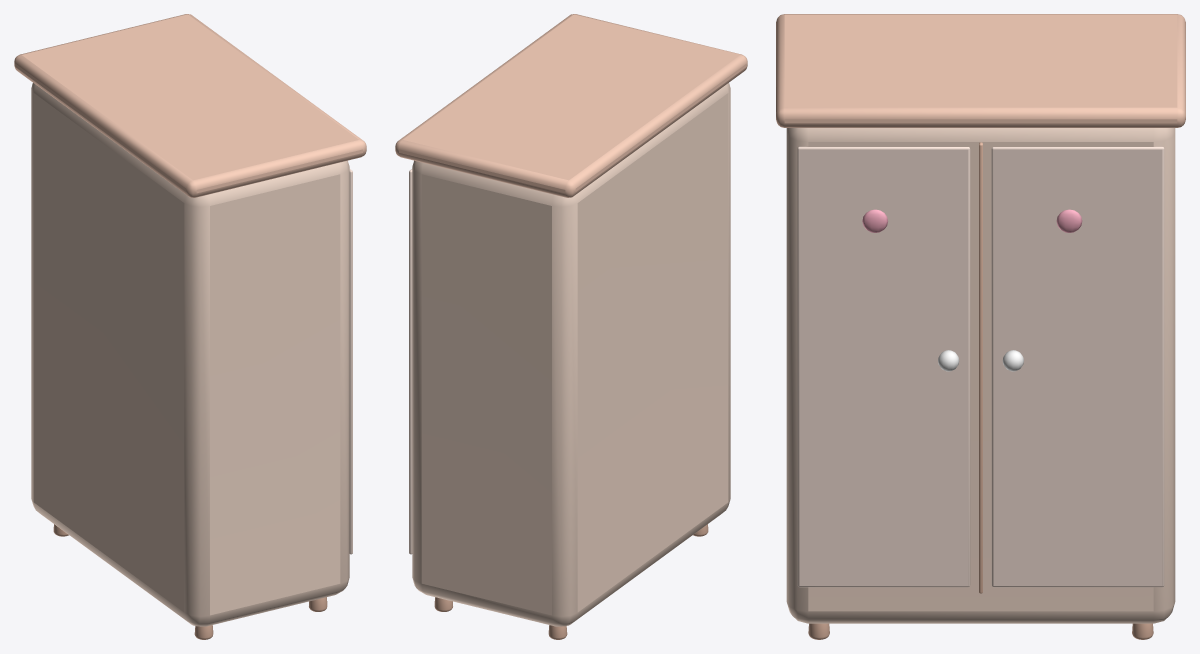
File: wardrobe.glb
The picture shows the model from 3 angles, left to right: view 1: azimuth 30°, elevation 25°; view 2: azimuth 150°, elevation 25°; view 3: azimuth 270°, elevation 25°; orthographic projection. The views are drawn at different scales.
Parts seen in each view (by area): view 1: body, crown, cffeadf, ce9bfa8; view 2: body, crown, cffeadf, ce9bfa8; view 3: cffeadf, crown, body, ce9bfa8, cffb3c8, cffffff.
Part boxes in pixels (bbox=[...]): body: bbox=[31, 83, 349, 626]; crown: bbox=[14, 14, 366, 197]; cffeadf: bbox=[349, 169, 352, 554]; ce9bfa8: bbox=[53, 524, 327, 639]; body: bbox=[412, 83, 730, 626]; crown: bbox=[395, 14, 747, 197]; cffeadf: bbox=[409, 169, 412, 554]; ce9bfa8: bbox=[434, 524, 708, 639]; cffeadf: bbox=[797, 146, 1164, 587]; crown: bbox=[776, 14, 1185, 127]; body: bbox=[786, 128, 1175, 623]; ce9bfa8: bbox=[808, 142, 1153, 639]; cffb3c8: bbox=[862, 209, 1082, 232]; cffffff: bbox=[938, 350, 1023, 371].
Size of the model in its own units: 1.14 by 2.78 by 1.9.
